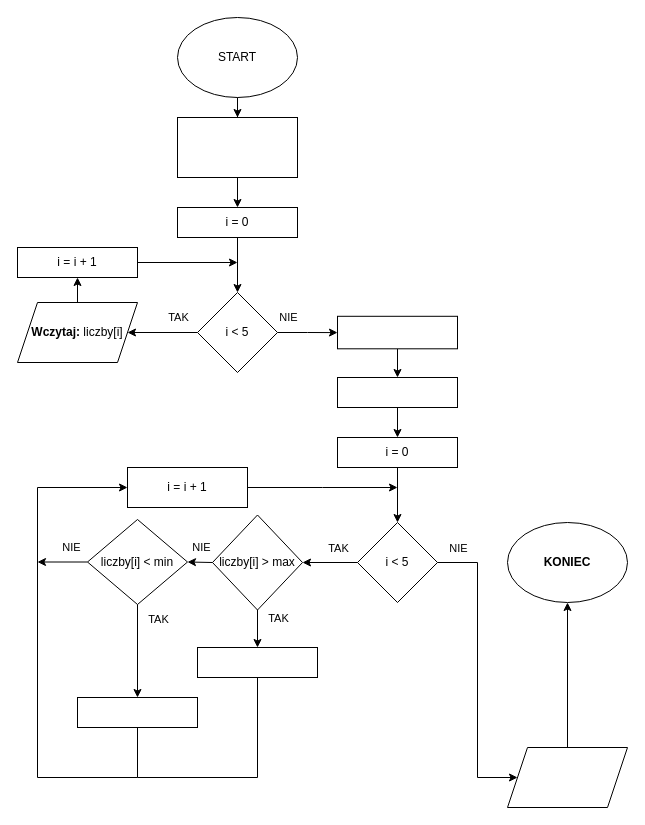
This 645x825 diagram has some shape labels left out. Here are the shapes that lost their labels. From the top down, the centre of each, then its label:
At (237,147): "Wczytaj: liczby[5]".
At (397,332): "min = liczby[0]".
At (397,392): "max = liczby[0]".
At (257,662): "max = liczby[i]".
At (137,712): "min = liczby[i]".
At (567,777): "Wypisz: min max max - min".
